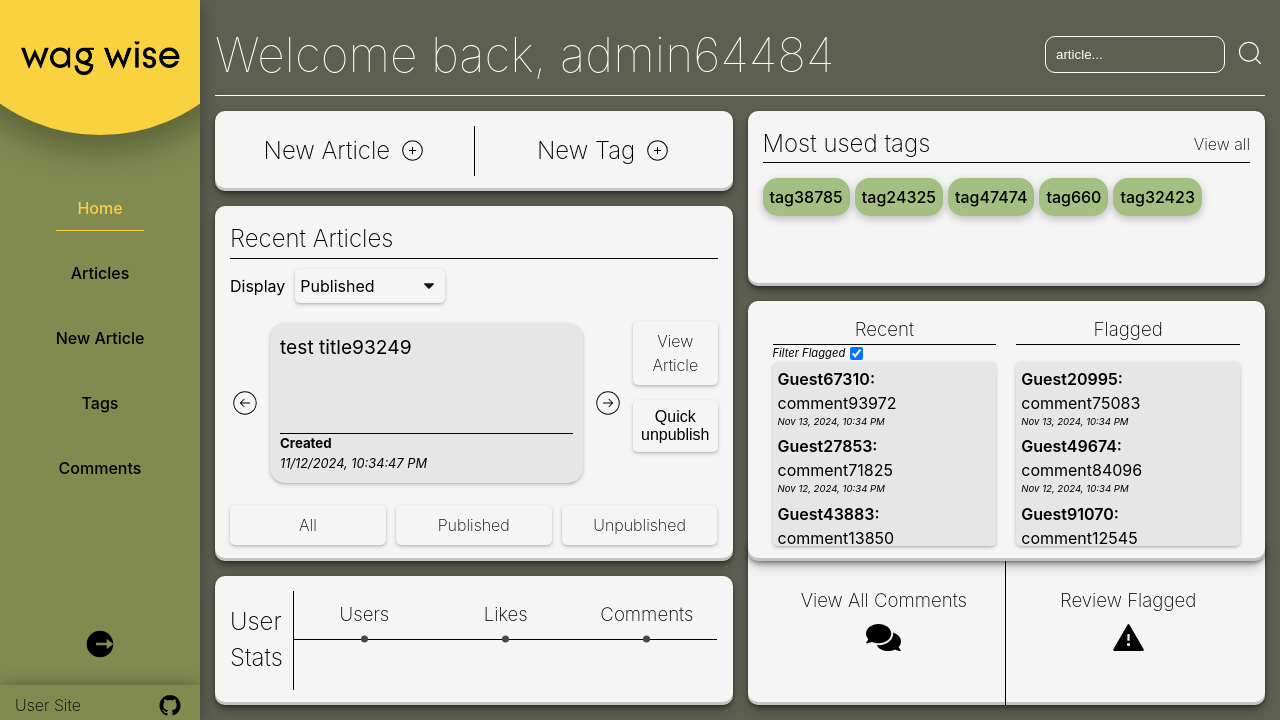
Test case: Home route user event tests › Click on view all tags opens tags page
Click the link "View all" at (1222, 144), box [1194, 132, 1250, 156]
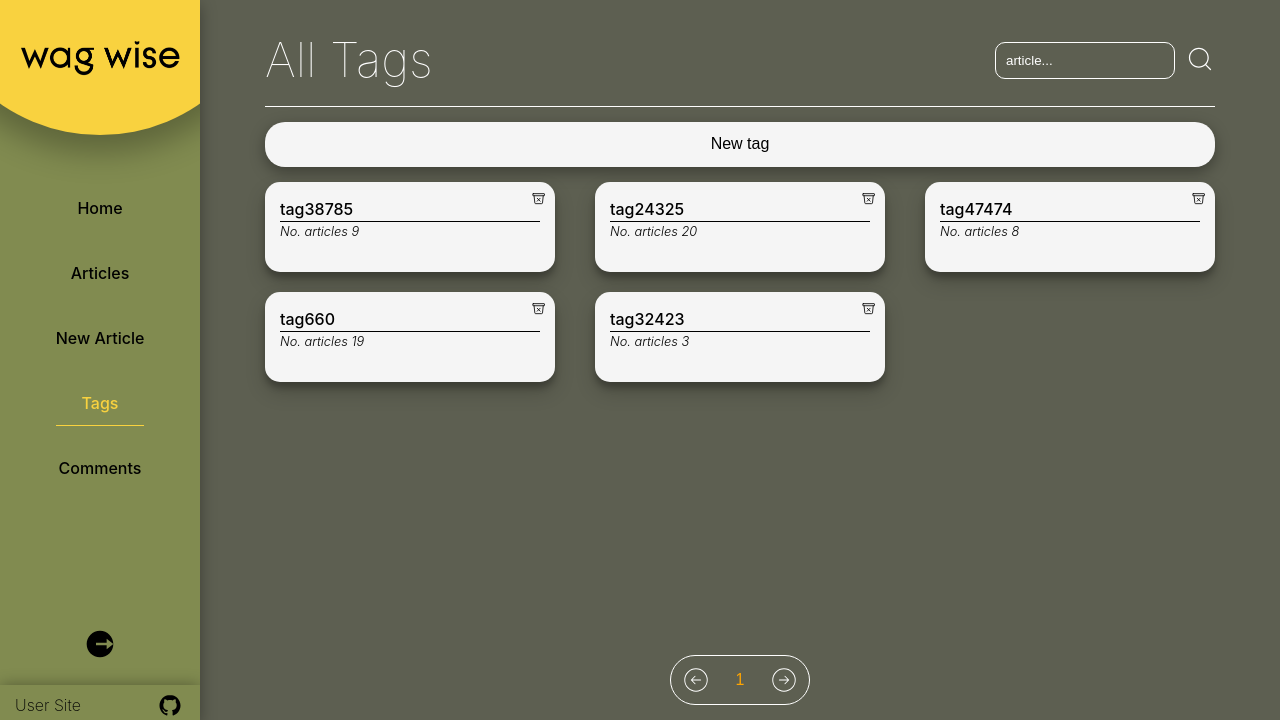
Check: the heading "All Tags" is shown, box [265, 34, 433, 87]
